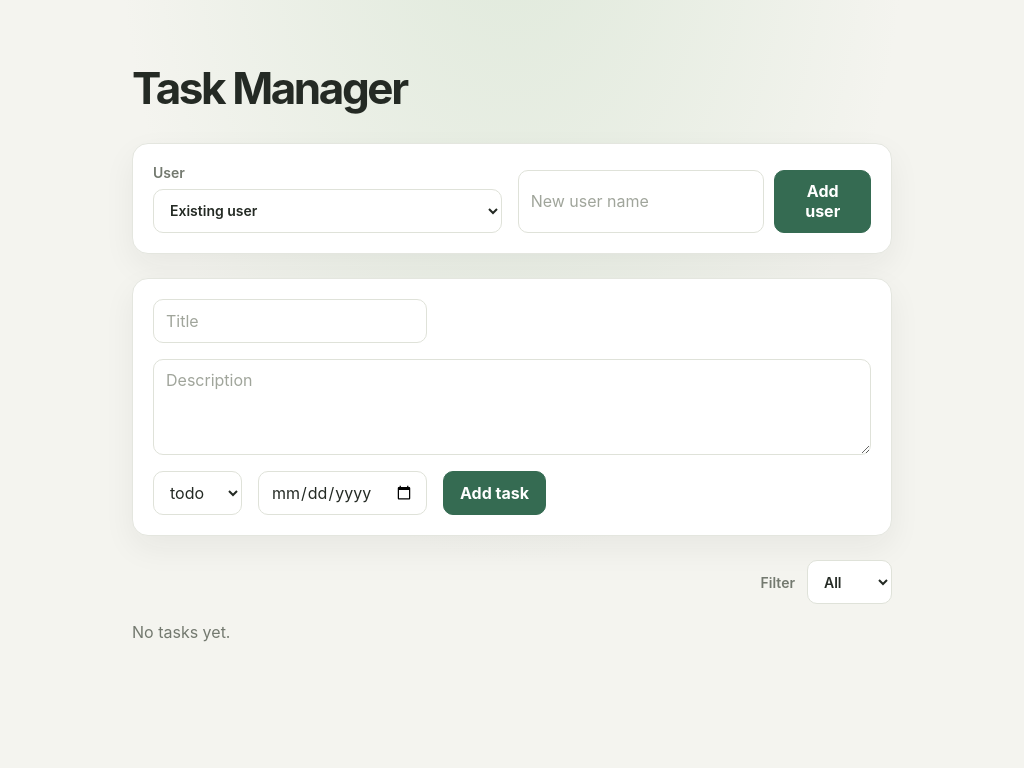
Test: Creation forms › preserves the user name and selection on failure and selects the user after retry
The image size is (1024, 768).
Expected: the text "No tasks yet." is shown, [132,622,230,642]
Type "  New user  " into the field labelled "New user name" at (641, 201), box [518,170,764,233]
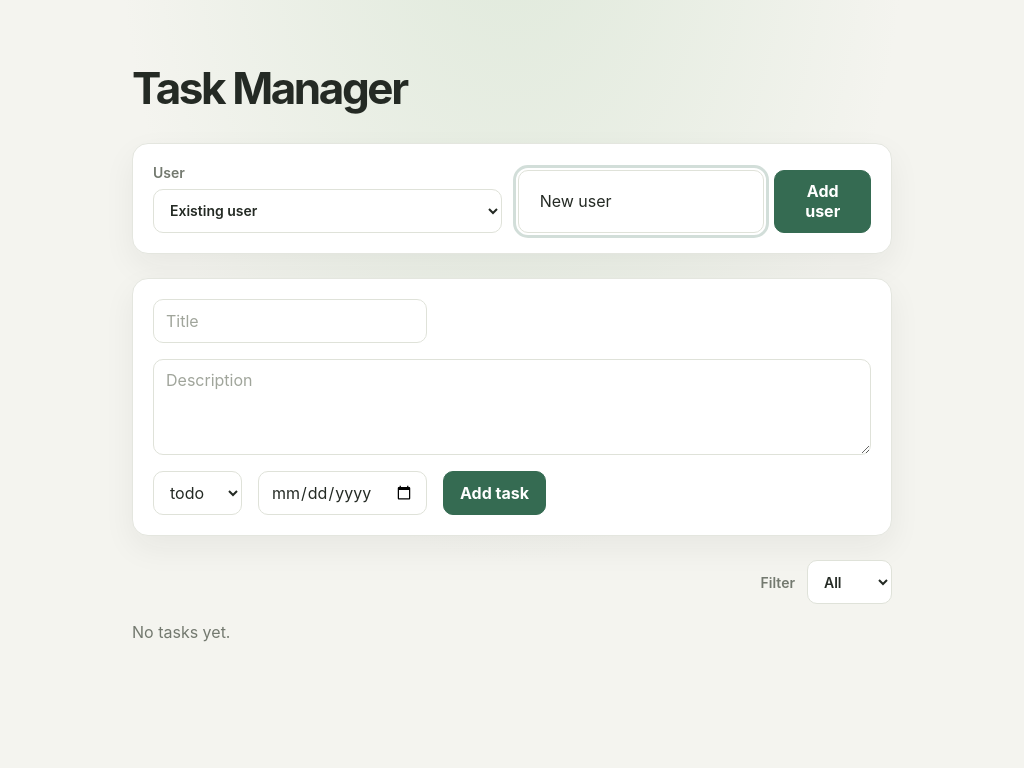
Click the button "Add user" at (823, 201), box [774,170,871,233]
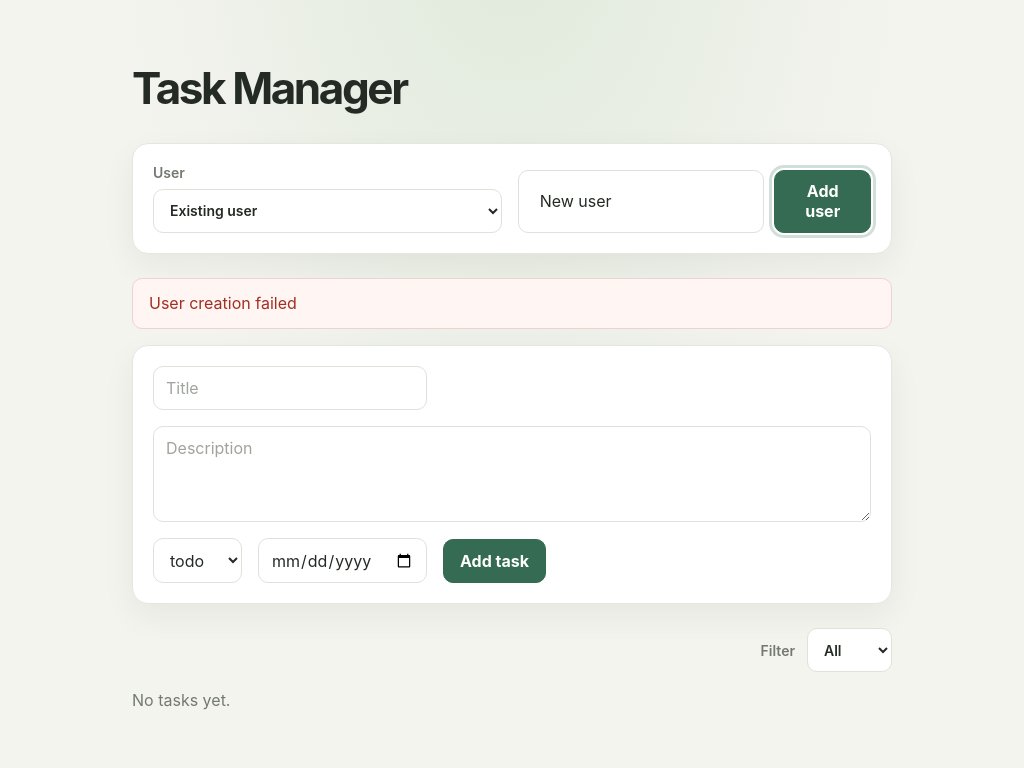
Expected: the dropdown labelled "User" shows "Existing user", [153,189,502,233]
Now the message reads "User creation failed", box [149,293,297,313]
Click the button "Add user" at (823, 201), box [774,170,871,233]
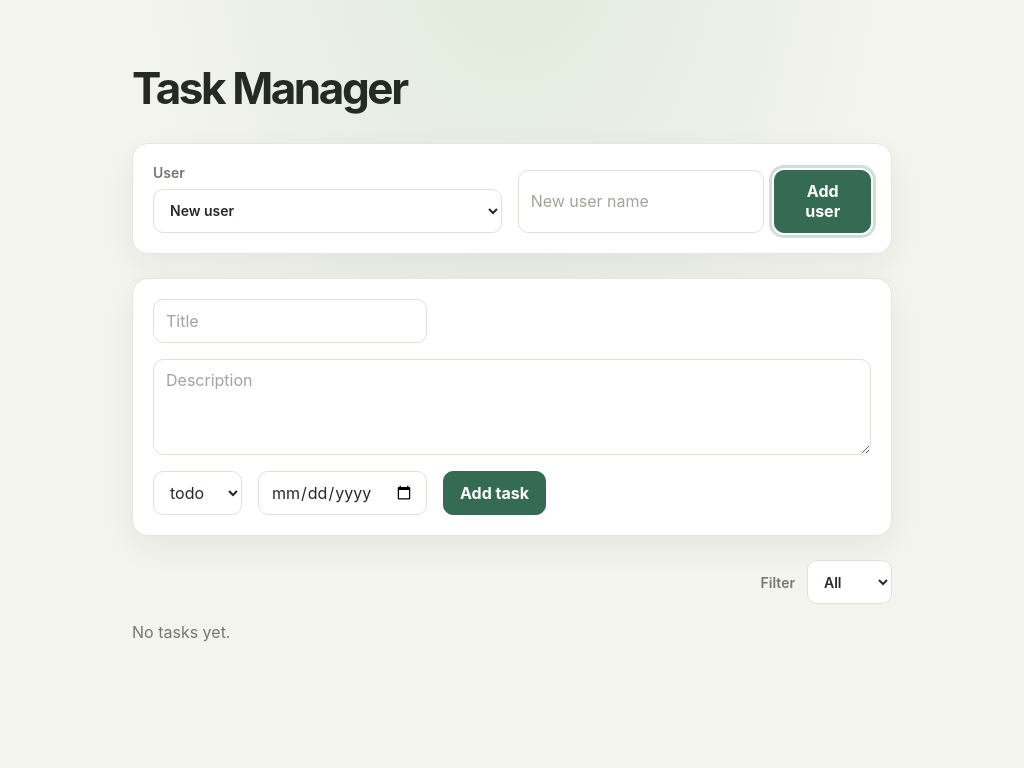
Now the field labelled "New user name" is empty, box [518,170,764,233]
Now the dropdown labelled "User" shows "New user", box [153,189,502,233]
Now the message "User creation failed" is gone
